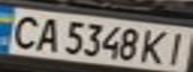3: (81, 20, 106, 58)
4: (100, 22, 124, 61)
5: (57, 18, 87, 56)
8: (118, 25, 142, 62)
A: (30, 15, 66, 53)
C: (0, 11, 45, 51)
I: (160, 29, 193, 66)
K: (136, 27, 172, 65)
